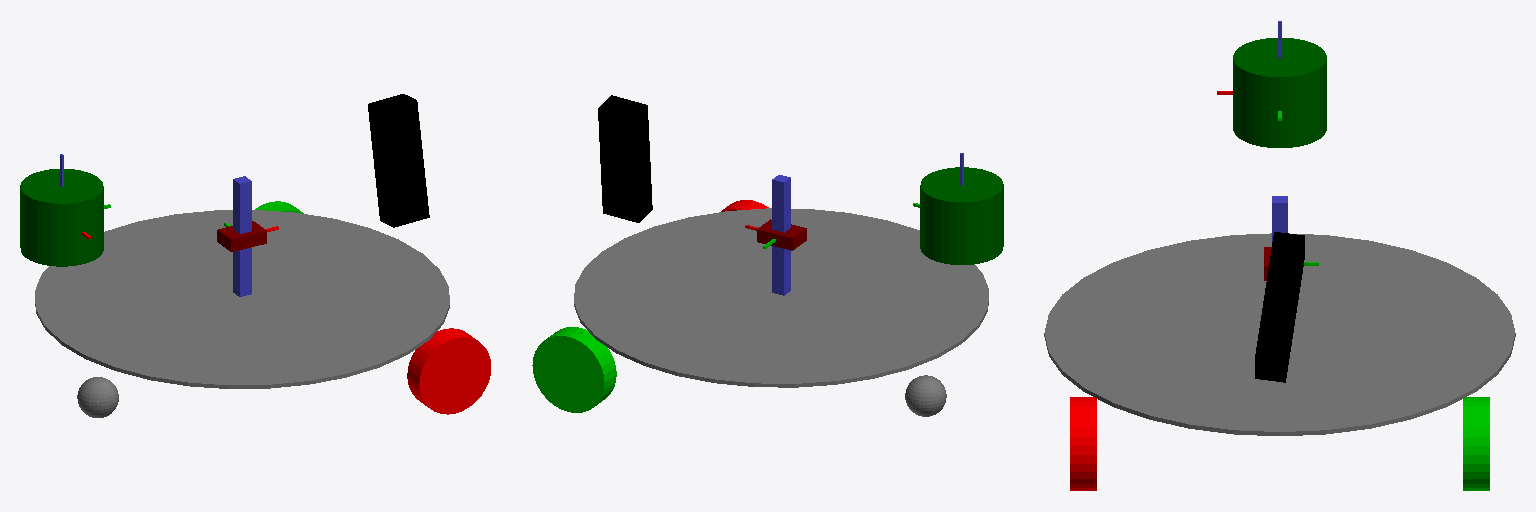
URDF robot description (dome2):
<?xml version="1.0"?>
<robot name="dome2">
  <material name="gray">
    <color rgba="0.5 0.5 0.5 1.0" />
  </material>
  <material name="black">
    <color rgba="0 0 0 1" />
  </material>
  <material name="red">
    <color rgba="1 0 0 1" />
  </material>
  <material name="blue">
    <color rgba="0.3 0.3 0.8 1" />
  </material>
  <material name="green">
    <color rgba="0 0.8 0 1" />
  </material>
  <material name="yellow">
    <color rgba="1 1 0 1" />
  </material>
  <material name="white">
    <color rgba="1 1 1 1" />
  </material>
  <material name="dark_red">
    <color rgba="0.5 0 0 1" />
  </material>
  <material name="dark_green">
    <color rgba="0 0.4 0 1" />
  </material>
  <link name="base_footprint" />
  <link name="base_link">
    <visual>
      <geometry>
        <cylinder radius="0.15" length="0.003" />
      </geometry>
      <material name="gray" />
    </visual>
    <collision>
      <geometry>
        <cylinder radius="0.15" length="0.003" />
      </geometry>
    </collision>
  </link>
  <link name="left_wheel">
    <visual>
      <origin rpy="1.5707963267948966 0 0" />
      <geometry>
        <cylinder radius="0.03" length="0.0175" />
      </geometry>
      <material name="green" />
    </visual>
    <collision>
      <origin rpy="1.5707963267948966 0 0" />
      <geometry>
        <cylinder radius="0.03" length="0.0175" />
      </geometry>
    </collision>
  </link>
  <link name="right_wheel">
    <visual>
      <origin rpy="1.5707963267948966 0 0" />
      <geometry>
        <cylinder radius="0.03" length="0.0175" />
      </geometry>
      <material name="red" />
    </visual>
    <collision>
      <origin rpy="1.5707963267948966 0 0" />
      <geometry>
        <cylinder radius="0.03" length="0.0175" />
      </geometry>
    </collision>
  </link>
  <link name="caster">
    <visual>
      <geometry>
        <sphere radius="0.015" />
      </geometry>
      <material name="gray" />
    </visual>
    <collision>
      <geometry>
        <sphere radius="0.015" />
      </geometry>
    </collision>
  </link>
  <link name="laser_post_link">
    <visual>
      <geometry>
        <box size="0.01 0.01 0.09" />
      </geometry>
      <material name="blue" />
    </visual>
    <collision>
      <geometry>
        <box size="0.01 0.01 0.09" />
      </geometry>
    </collision>
  </link>
  <link name="laser">
    <visual>
      <geometry>
        <cylinder radius="0.03" length="0.05" />
      </geometry>
      <material name="dark_green" />
    </visual>
    <collision>
      <geometry>
        <cylinder radius="0.03" length="0.05" />
      </geometry>
    </collision>
  </link>
  <link name="laser_forward_link">
    <visual>
      <geometry>
        <box size="0.04 0.002 0.002" />
      </geometry>
      <material name="red" />
    </visual>
    <collision>
      <geometry>
        <box size="0.04 0.002 0.002" />
      </geometry>
    </collision>
  </link>
  <link name="laser_left_link">
    <visual>
      <geometry>
        <box size="0.002 0.04 0.002" />
      </geometry>
      <material name="green" />
    </visual>
    <collision>
      <geometry>
        <box size="0.002 0.04 0.002" />
      </geometry>
    </collision>
  </link>
  <link name="laser_up_link">
    <visual>
      <geometry>
        <box size="0.002 0.002 0.04" />
      </geometry>
      <material name="blue" />
    </visual>
    <collision>
      <geometry>
        <box size="0.002 0.002 0.04" />
      </geometry>
    </collision>
  </link>
  <link name="imu_link">
    <visual>
      <geometry>
        <box size="0.03 0.02 0.01" />
      </geometry>
      <material name="dark_red" />
    </visual>
    <collision>
      <geometry>
        <box size="0.03 0.02 0.01" />
      </geometry>
    </collision>
  </link>
  <link name="imu_forward_link">
    <visual>
      <geometry>
        <box size="0.03 0.002 0.002" />
      </geometry>
      <material name="red" />
    </visual>
    <collision>
      <geometry>
        <box size="0.03 0.002 0.002" />
      </geometry>
    </collision>
  </link>
  <link name="imu_left_link">
    <visual>
      <geometry>
        <box size="0.002 0.03 0.002" />
      </geometry>
      <material name="green" />
    </visual>
    <collision>
      <geometry>
        <box size="0.002 0.03 0.002" />
      </geometry>
    </collision>
  </link>
  <link name="imu_up_link">
    <visual>
      <geometry>
        <box size="0.002 0.002 0.03" />
      </geometry>
      <material name="blue" />
    </visual>
    <collision>
      <geometry>
        <box size="0.002 0.002 0.03" />
      </geometry>
    </collision>
  </link>
  <link name="origin_marker_link">
    <visual>
      <geometry>
        <sphere radius="0.001" />
      </geometry>
      <material name="yellow" />
    </visual>
    <collision>
      <geometry>
        <sphere radius="0.001" />
      </geometry>
    </collision>
  </link>
  <link name="camera_link">
    <visual>
      <geometry>
        <box size="0.02 0.09 0.03" />
      </geometry>
      <material name="black" />
    </visual>
    <collision>
      <geometry>
        <box size="0.02 0.09 0.03" />
      </geometry>
    </collision>
  </link>
  <joint name="base_footprint_to_base_link" type="fixed">
    <parent link="base_footprint" />
    <child link="base_link" />
    <origin xyz="0 0 0.05" />
  </joint>
  <joint name="base_link_to_left_wheel" type="continuous">
    <parent link="base_link" />
    <child link="left_wheel" />
    <origin xyz="0.1 0.125 -0.03" />
    <axis xyz="0 1 0" />
  </joint>
  <joint name="base_link_to_right_wheel" type="continuous">
    <parent link="base_link" />
    <child link="right_wheel" />
    <origin xyz="0.1 -0.125 -0.03" />
    <axis xyz="0 1 0" />
  </joint>
  <joint name="base_link_to_caster" type="fixed">
    <parent link="base_link" />
    <child link="caster" />
    <origin xyz="-0.12 0 -0.05" />
  </joint>
  <joint name="base_link_to_imu_link" type="fixed">
    <parent link="base_link" />
    <child link="imu_link" />
    <origin xyz="0.0 0 0.05" rpy="0 0 0" />
  </joint>
  <joint name="imu_link_to_imu_forward_link" type="fixed">
    <parent link="imu_link" />
    <child link="imu_forward_link" />
    <origin xyz="0.015 0 0" />
  </joint>
  <joint name="imu_link_to_imu_left_link" type="fixed">
    <parent link="imu_link" />
    <child link="imu_left_link" />
    <origin xyz="0 0.01 0" />
  </joint>
  <joint name="imu_link_to_imu_up_link" type="fixed">
    <parent link="imu_link" />
    <child link="imu_up_link" />
    <origin xyz="0 0 0.015" />
  </joint>
  <joint name="base_link_to_origin_marker_link" type="fixed">
    <parent link="base_link" />
    <child link="origin_marker_link" />
    <origin xyz="0 0 0" />
  </joint>
  <joint name="base_link_to_laser_post_link" type="fixed">
    <parent link="base_link" />
    <child link="laser_post_link" />
    <origin xyz="0 0 0.05" />
  </joint>
  <joint name="base_link_to_laser" type="fixed">
    <parent link="base_link" />
    <child link="laser" />
    <origin xyz="-0.15 0 0.1" rpy="0 0 -1.5707963267948966" />
  </joint>
  <joint name="laser_to_laser_forward_link" type="fixed">
    <parent link="laser" />
    <child link="laser_forward_link" />
    <origin xyz="0.02 0 0" />
  </joint>
  <joint name="laser_to_laser_left_link" type="fixed">
    <parent link="laser" />
    <child link="laser_left_link" />
    <origin xyz="0 0.02 0" />
  </joint>
  <joint name="laser_to_laser_up_link" type="fixed">
    <parent link="laser" />
    <child link="laser_up_link" />
    <origin xyz="0 0 0.03" />
  </joint>
  <joint name="base_link_to_camera_link" type="fixed">
    <parent link="base_link" />
    <child link="camera_link" />
    <origin xyz="0.1300 0.0000 0.0800" rpy="-1.5359 -0.1396 -1.5708" />
    </joint>
</robot>

--- What the picture shows (computed from the rendered views, not written in the file) ---
Views: 3 orthographic renders of the robot side by side, from view 1: azimuth 30°, elevation 25°; view 2: azimuth 150°, elevation 25°; view 3: azimuth 270°, elevation 25°.
Robot: dome2 — 16 links, 15 joints (2 continuous, 13 fixed); root link base_footprint; default pose: all joints at 0.
Visible links, largest first — view 1: base_link, laser, camera_link, right_wheel, laser_post_link, caster, imu_link; view 2: base_link, laser, camera_link, left_wheel, laser_post_link, caster, imu_link; view 3: base_link, laser, camera_link, left_wheel, right_wheel, laser_post_link.
Boxes of the visible links, x1,y1,x2,y2 form: base_link: (35,210,449,388); laser: (20,169,103,266); camera_link: (368,94,429,227); right_wheel: (407,328,490,414); laser_post_link: (233,176,251,296); caster: (77,377,118,417); imu_link: (217,221,266,251); base_link: (574,208,988,387); laser: (920,167,1003,264); camera_link: (598,95,652,222); left_wheel: (532,327,616,412); laser_post_link: (772,175,790,295); caster: (905,375,946,416); imu_link: (757,219,806,250); base_link: (1044,233,1515,435); laser: (1233,38,1326,147); camera_link: (1255,232,1304,382); left_wheel: (1463,397,1489,490); right_wheel: (1070,397,1096,490); laser_post_link: (1272,196,1287,241).
Bounding box of the posed robot: 0.33 × 0.3 × 0.215 m (x, y, z).
Geometry: primitives only (box / cylinder / sphere), no mesh files.
